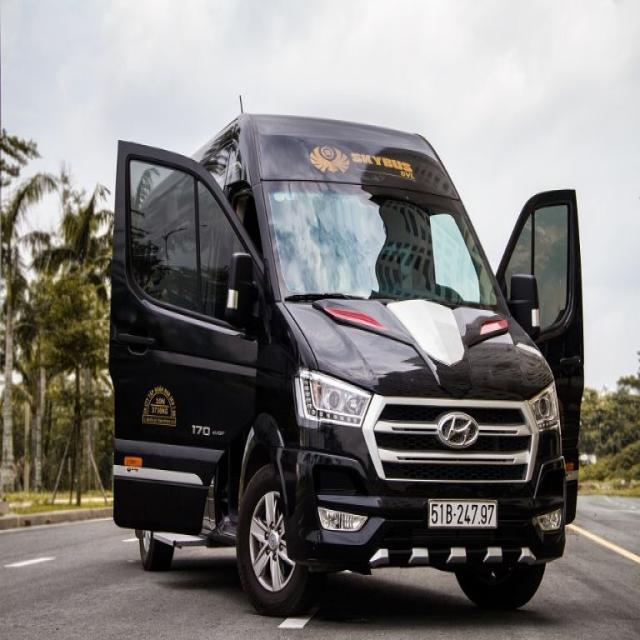car: (118, 48, 592, 627)
plate: (423, 496, 501, 532)
